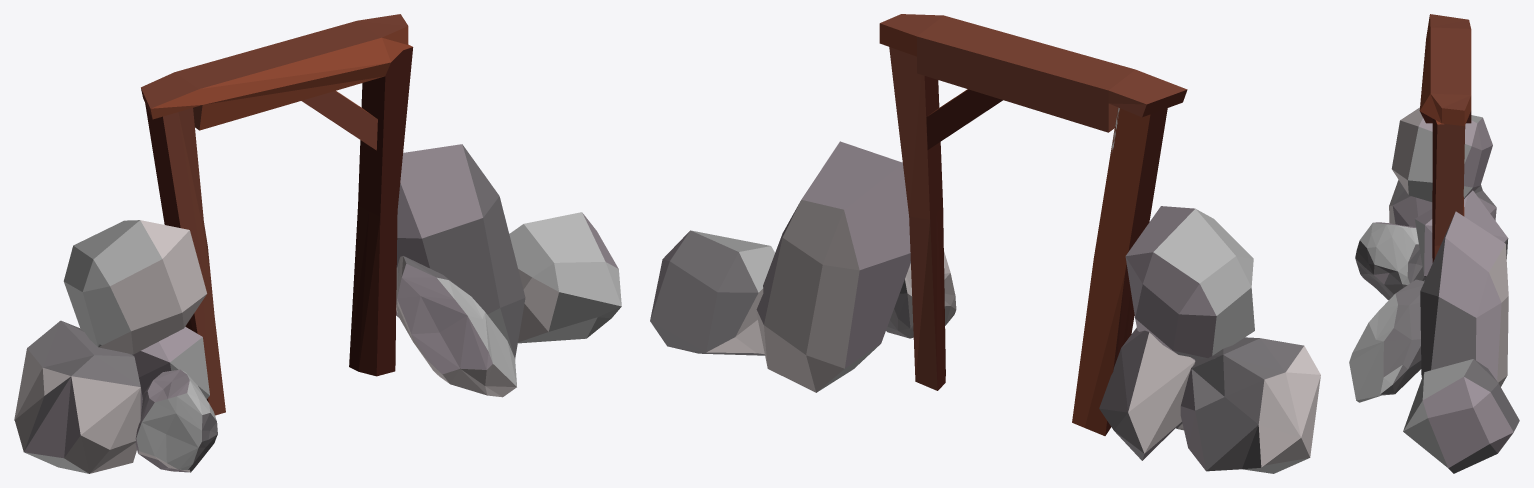
The model's file is Mine_escape_low_poly_colored.obj.
3 renders of one model, left to right at view 1: azimuth 30°, elevation 25°; view 2: azimuth 150°, elevation 25°; view 3: azimuth 270°, elevation 25°, orthographic. The views are drawn at different scales.
Visible parts, largest first — view 1: Cube.003_Cube.007, pfahl_Ob_Cube.002, Cube_Cube.004, Cube.002_Cube.006, pfahl_R_Cube.001, Cube.004_Cube.008, Cube.006_Cube.010, Pfahl_L_Cube, Cube.005_Cube.009, Cube.001_Cube.005, Pfahl_RO_Cube.003; view 2: Cube.003_Cube.007, pfahl_Ob_Cube.002, Cube_Cube.004, Cube.002_Cube.006, Pfahl_L_Cube, Cube.004_Cube.008, pfahl_R_Cube.001, Cube.001_Cube.005, Pfahl_RO_Cube.003, Cube.006_Cube.010; view 3: Cube.003_Cube.007, Cube.004_Cube.008, Cube.006_Cube.010, pfahl_Ob_Cube.002, Cube.002_Cube.006, Cube.005_Cube.009, pfahl_R_Cube.001, Cube.001_Cube.005, Cube_Cube.004.
Part boxes in pixels (x1=…): Cube.003_Cube.007: x1=396, y1=144, x2=525, y2=358; pfahl_Ob_Cube.002: x1=141, y1=14, x2=408, y2=130; Cube_Cube.004: x1=14, y1=320, x2=142, y2=473; Cube.002_Cube.006: x1=63, y1=220, x2=207, y2=354; pfahl_R_Cube.001: x1=349, y1=44, x2=413, y2=376; Cube.004_Cube.008: x1=509, y1=212, x2=621, y2=343; Cube.006_Cube.010: x1=396, y1=256, x2=516, y2=397; Pfahl_L_Cube: x1=145, y1=103, x2=225, y2=415; Cube.005_Cube.009: x1=135, y1=369, x2=217, y2=472; Cube.001_Cube.005: x1=132, y1=326, x2=209, y2=399; Pfahl_RO_Cube.003: x1=301, y1=91, x2=377, y2=150; Cube.003_Cube.007: x1=756, y1=141, x2=910, y2=392; pfahl_Ob_Cube.002: x1=879, y1=14, x2=1187, y2=132; Cube_Cube.004: x1=1180, y1=337, x2=1320, y2=473; Cube.002_Cube.006: x1=1125, y1=206, x2=1254, y2=359; Pfahl_L_Cube: x1=1072, y1=107, x2=1167, y2=435; Cube.004_Cube.008: x1=650, y1=230, x2=774, y2=355; pfahl_R_Cube.001: x1=889, y1=47, x2=945, y2=390; Cube.001_Cube.005: x1=1099, y1=327, x2=1195, y2=460; Pfahl_RO_Cube.003: x1=926, y1=89, x2=1002, y2=149; Cube.006_Cube.010: x1=886, y1=251, x2=956, y2=338; Cube.003_Cube.007: x1=1420, y1=211, x2=1508, y2=386; Cube.004_Cube.008: x1=1403, y1=359, x2=1519, y2=473; Cube.006_Cube.010: x1=1349, y1=279, x2=1424, y2=402; pfahl_Ob_Cube.002: x1=1419, y1=14, x2=1471, y2=125; Cube.002_Cube.006: x1=1391, y1=107, x2=1492, y2=201; Cube.005_Cube.009: x1=1355, y1=222, x2=1425, y2=300; pfahl_R_Cube.001: x1=1432, y1=119, x2=1465, y2=262; Cube.001_Cube.005: x1=1415, y1=190, x2=1508, y2=277; Cube_Cube.004: x1=1389, y1=180, x2=1496, y2=226.
Size of the model in its own units: 19.56 by 11.46 by 6.03.
11 materials, 11 textured.
